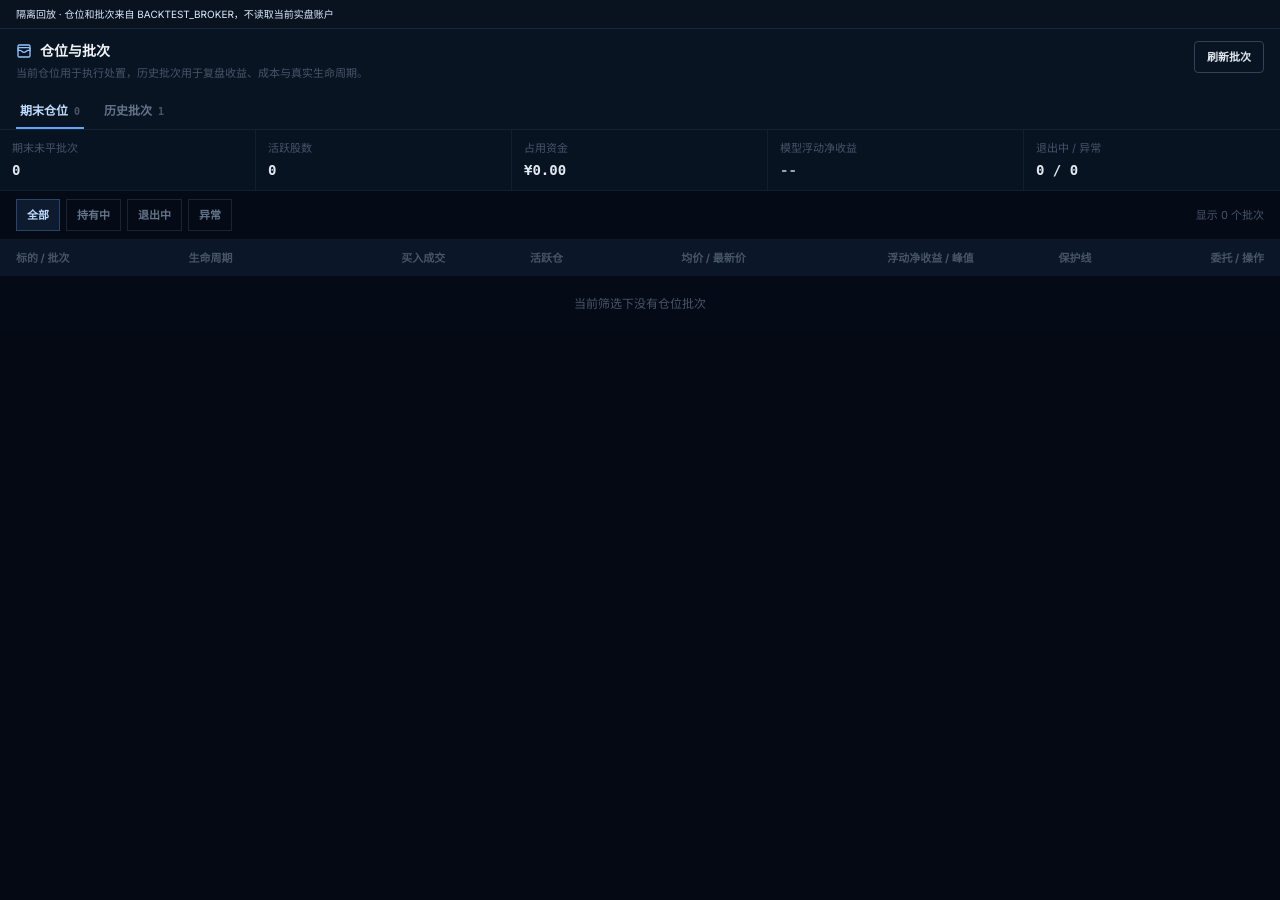
TTradePositionsView › normalizes the replay workspace into end positions and historical batches
Expected: the text "隔离回放 · 仓位和批次来自 BACKTEST_BROKER，不读取当前实盘账户" is shown, [0, 0, 1279, 29]
What coordinates should you click on to do the following:
click the tab "历史批次1"
I would click on:
 (134, 111)
Its box is [100, 93, 168, 129].
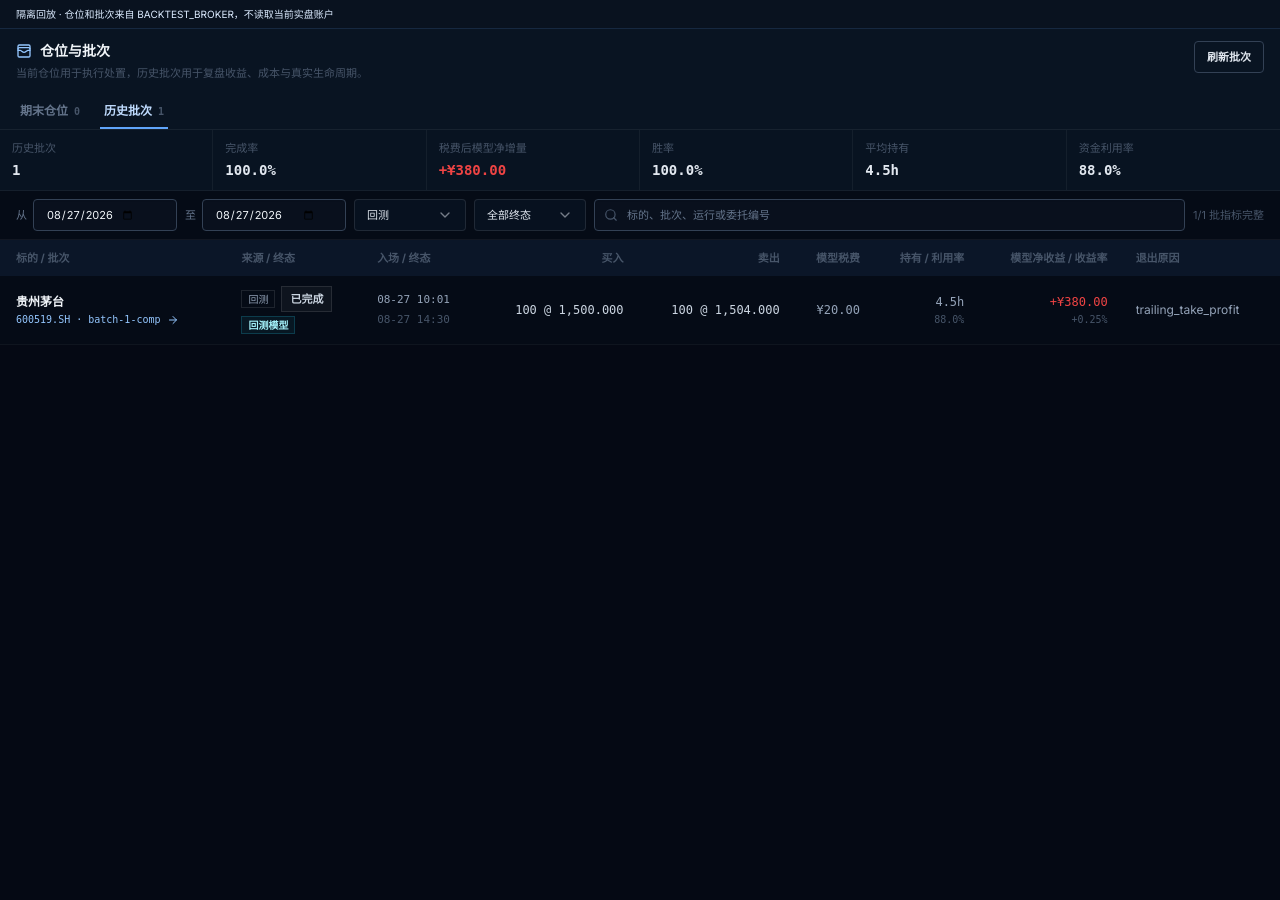
Expected: the text "贵州茅台" is shown, [16, 294, 64, 308]
Expected: the text "回测模型" is shown, [242, 316, 296, 334]
What coordinates should you click on to do the following:
click the button "贵州茅台 600519.SH · batch-1-comp"
I would click on:
 (97, 310)
Its box is [16, 294, 178, 326].
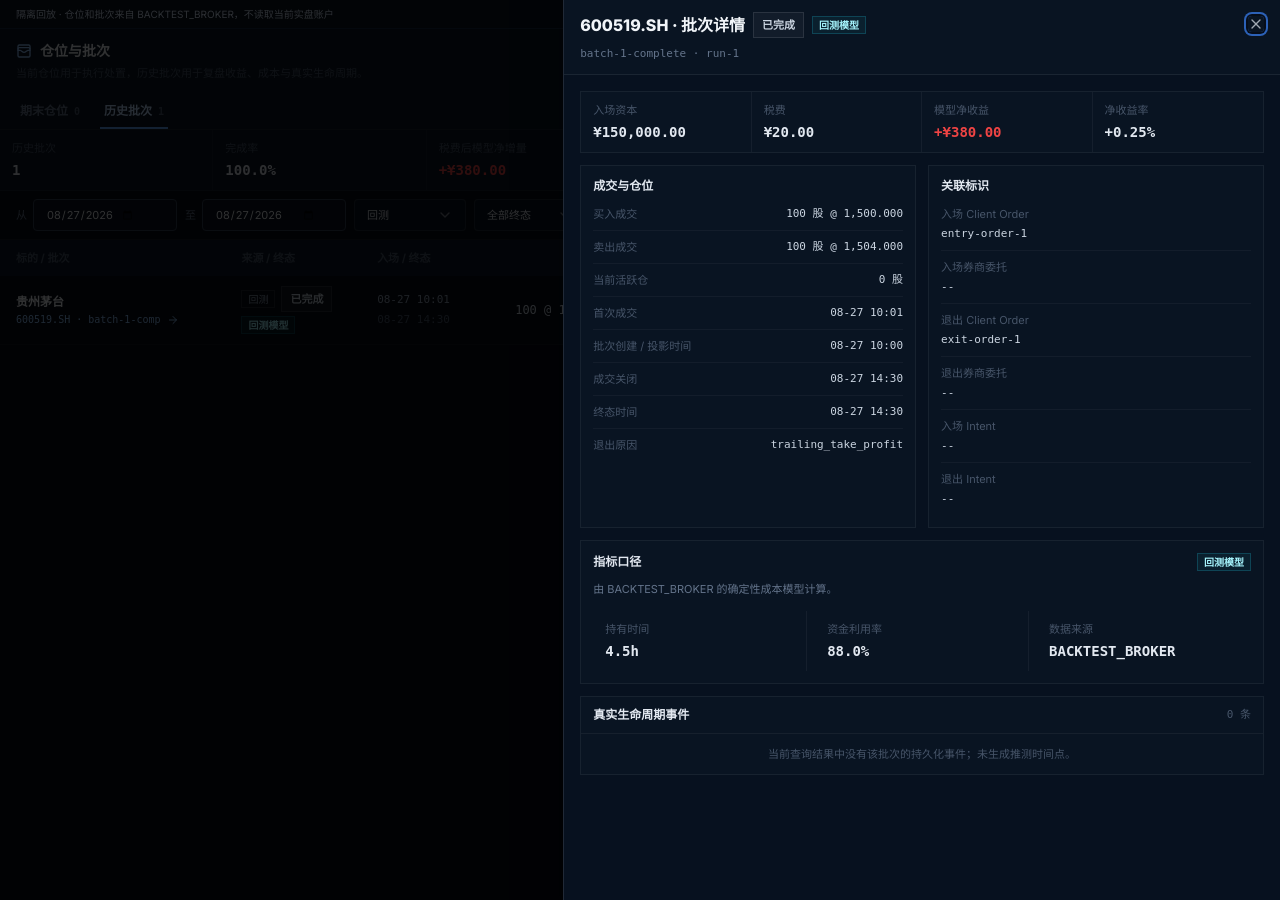
Expected: the text "+¥380.00" below "税费后模型净增量" is shown, [439, 162, 506, 178]
Expected: the heading "600519.SH · 批次详情" is shown, [580, 13, 745, 37]
Expected: the text "BACKTEST_BROKER" is shown, [1049, 643, 1176, 659]
